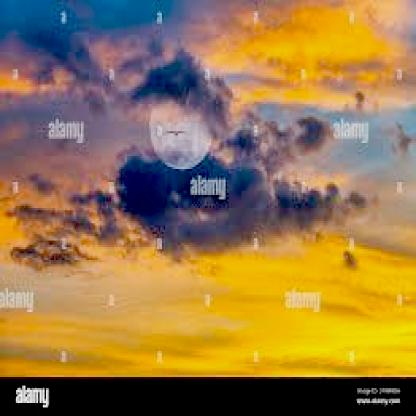bird: (162, 124, 198, 152)
